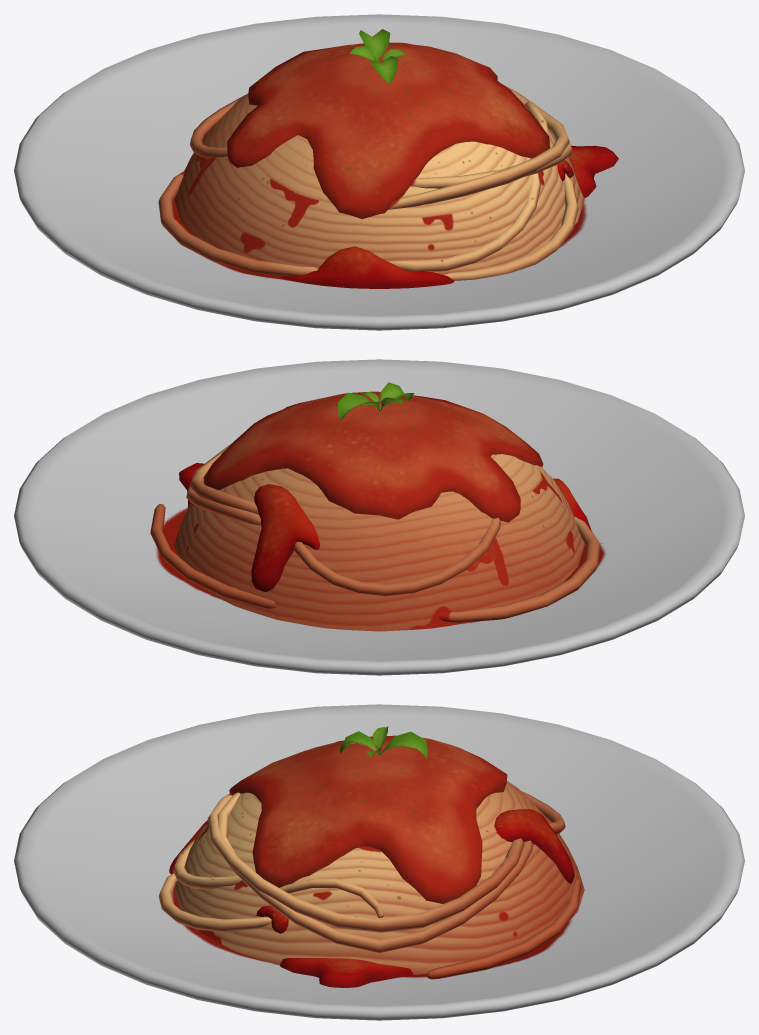
The model's file is Spaghetti.fbx.
The picture shows the model from 3 angles, top to bottom: view 1: azimuth 30°, elevation 25°; view 2: azimuth 150°, elevation 25°; view 3: azimuth 270°, elevation 25°; orthographic projection.
Parts seen in each view (by area): view 1: Spaghetti; view 2: Spaghetti; view 3: Spaghetti.
Boxes of the visible parts, left/top/right/bottom form: Spaghetti: left=14, top=14, right=744, bottom=330; Spaghetti: left=14, top=359, right=744, bottom=675; Spaghetti: left=14, top=704, right=744, bottom=1020.
Size of the model in its own units: 133 by 35.83 by 133.
